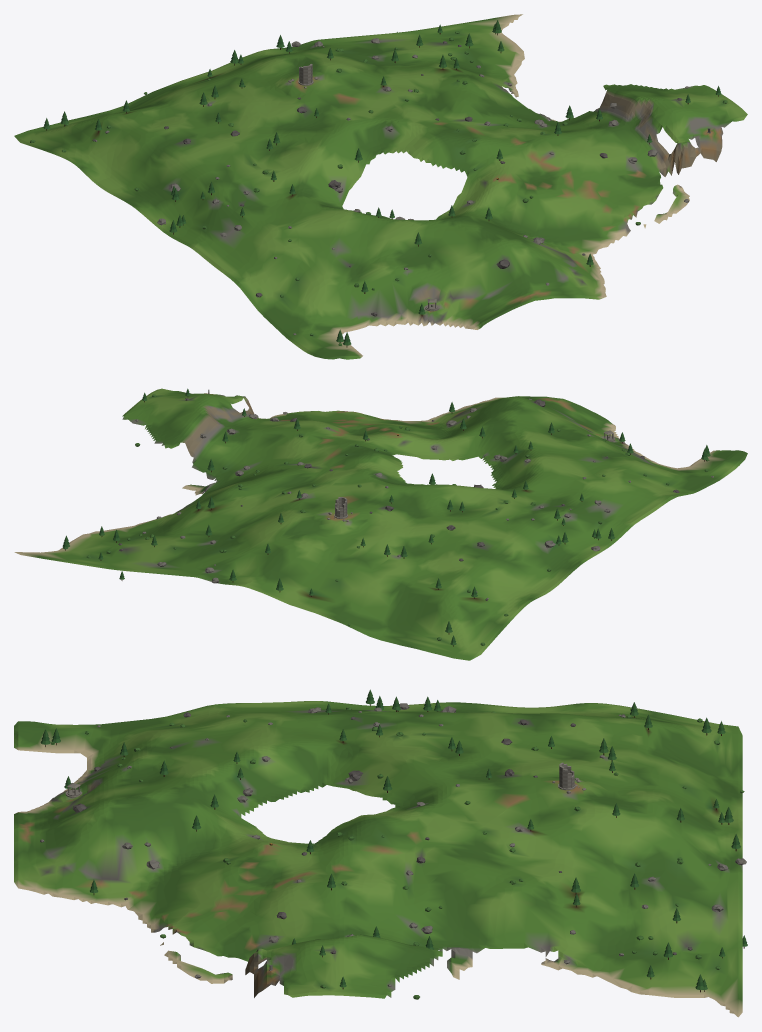
Rendered from arch_isl_gullhaven_lod1.glb.
The picture shows the model from 3 angles, top to bottom: view 1: azimuth 30°, elevation 25°; view 2: azimuth 150°, elevation 25°; view 3: azimuth 270°, elevation 25°; orthographic projection. The views are drawn at different scales.
Visible parts, largest first — view 1: geometry_0; view 2: geometry_0; view 3: geometry_0.
Part boxes in pixels (x1,y1,x2,y2): geometry_0: (14, 14, 747, 359); geometry_0: (14, 388, 747, 660); geometry_0: (14, 689, 747, 1017).
Size of the model in its own units: 340 by 45.63 by 342.
